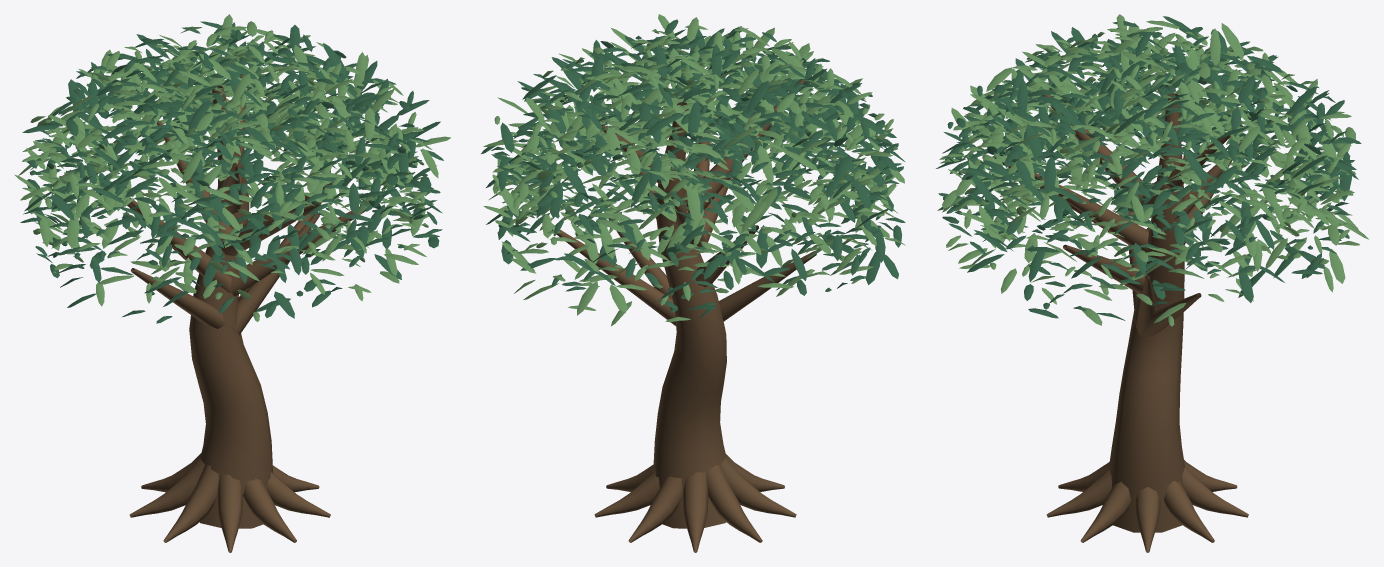
Rendered from ElderOak.fbx.
The picture shows the model from 3 angles, left to right: view 1: azimuth 30°, elevation 25°; view 2: azimuth 150°, elevation 25°; view 3: azimuth 270°, elevation 25°; orthographic projection.
Visible parts, largest first — view 1: Leaf canopy_export, Leaf canopy.001_export, Ancient twisting bole_export, Buttress roots.005_export, Buttress roots.006_export, Buttress roots.007_export, Buttress roots.004_export, Sweeping bough.004_export, Sweeping bough_export, Buttress roots.008_export, Sweeping bough.005_export, Sweeping bough.009_export (+2 smaller); view 2: Leaf canopy.001_export, Leaf canopy_export, Ancient twisting bole_export, Buttress roots.004_export, Buttress roots.003_export, Sweeping bough.008_export, Buttress roots.002_export, Buttress roots.005_export, Sweeping bough.004_export, Buttress roots.001_export, Sweeping bough_export, Sweeping bough.007_export (+1 smaller); view 3: Leaf canopy.001_export, Leaf canopy_export, Ancient twisting bole_export, Sweeping bough.010_export, Buttress roots.001_export, Buttress roots.008_export, Buttress roots.002_export, Buttress roots.007_export, Buttress roots_export, Sweeping bough.005_export, Sweeping bough.008_export, Sweeping bough_export (+2 smaller).
Boxes of the visible parts, bbox=[...] form: Leaf canopy_export: bbox=[20, 21, 443, 323]; Leaf canopy.001_export: bbox=[14, 14, 450, 321]; Ancient twisting bole_export: bbox=[189, 85, 272, 528]; Buttress roots.005_export: bbox=[163, 465, 218, 542]; Buttress roots.006_export: bbox=[217, 474, 243, 552]; Buttress roots.007_export: bbox=[243, 479, 296, 542]; Buttress roots.004_export: bbox=[129, 458, 204, 517]; Sweeping bough.004_export: bbox=[131, 268, 237, 332]; Sweeping bough_export: bbox=[236, 214, 319, 334]; Buttress roots.008_export: bbox=[266, 472, 330, 517]; Sweeping bough.005_export: bbox=[229, 207, 365, 296]; Sweeping bough.009_export: bbox=[130, 197, 231, 292]; Leaf canopy.001_export: bbox=[483, 14, 905, 326]; Leaf canopy_export: bbox=[481, 19, 905, 317]; Ancient twisting bole_export: bbox=[653, 102, 726, 528]; Buttress roots.004_export: bbox=[706, 464, 762, 542]; Buttress roots.003_export: bbox=[682, 472, 708, 552]; Sweeping bough.008_export: bbox=[552, 229, 675, 325]; Buttress roots.002_export: bbox=[628, 476, 682, 542]; Buttress roots.005_export: bbox=[721, 458, 796, 517]; Sweeping bough.004_export: bbox=[718, 251, 816, 321]; Buttress roots.001_export: bbox=[594, 470, 659, 517]; Sweeping bough_export: bbox=[608, 218, 672, 299]; Sweeping bough.007_export: bbox=[703, 79, 804, 209]; Leaf canopy.001_export: bbox=[939, 14, 1368, 326]; Leaf canopy_export: bbox=[936, 16, 1361, 320]; Ancient twisting bole_export: bbox=[1108, 93, 1184, 532]; Sweeping bough.010_export: bbox=[1034, 172, 1148, 252]; Buttress roots.001_export: bbox=[1164, 480, 1214, 542]; Buttress roots.008_export: bbox=[1080, 482, 1131, 542]; Buttress roots.002_export: bbox=[1182, 467, 1248, 517]; Buttress roots.007_export: bbox=[1046, 469, 1111, 517]; Buttress roots_export: bbox=[1135, 486, 1160, 552]; Sweeping bough.005_export: bbox=[1063, 244, 1147, 293]; Sweeping bough.008_export: bbox=[1136, 293, 1201, 336]; Sweeping bough_export: bbox=[1135, 275, 1156, 336].
Bounding box in the file's own units: 1717 × 2045 × 1702.
